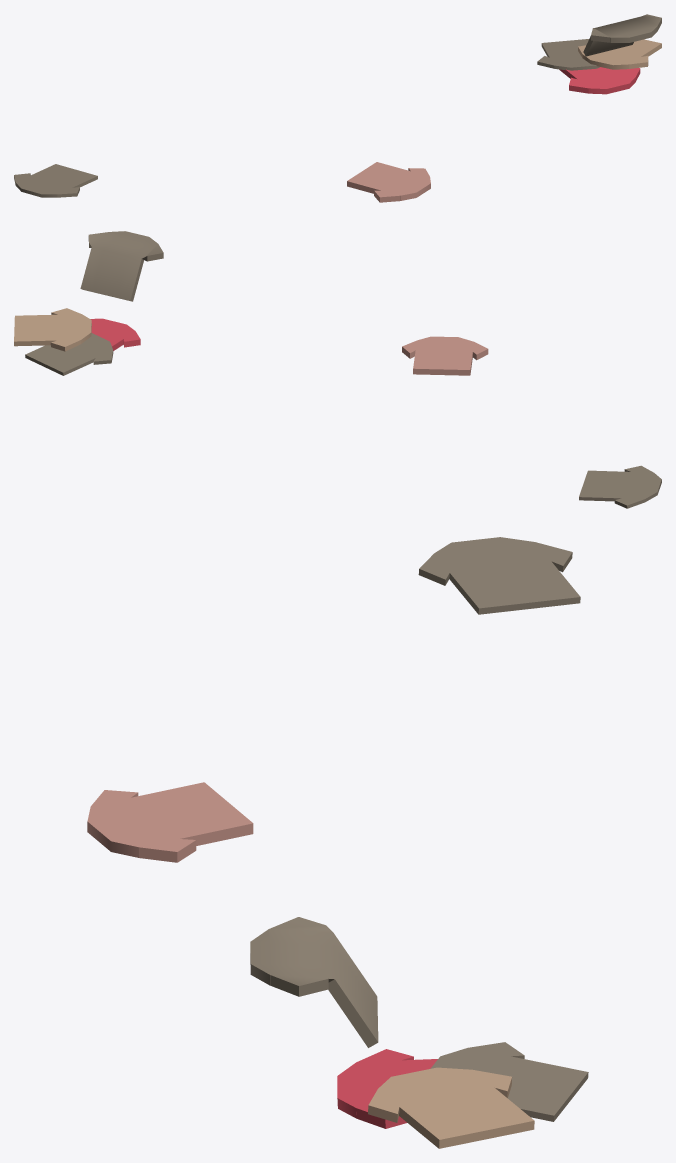
File: tshirts.fbx
The picture shows the model from 3 angles, top to bottom: view 1: azimuth 30°, elevation 25°; view 2: azimuth 150°, elevation 25°; view 3: azimuth 270°, elevation 25°; orthographic projection. The views are drawn at different scales.
Visible parts, largest first — view 1: tshirt4, tshirt6, tshirt5, tshirt1, tshirt3, tshirt2; view 2: tshirt5, tshirt4, tshirt3, tshirt6, tshirt2, tshirt1; view 3: tshirt4, tshirt3, tshirt6, tshirt5, tshirt2, tshirt1.
Part boxes in pixels (left/top/right/bottom): tshirt4: left=347, top=162, right=430, bottom=202; tshirt6: left=14, top=164, right=97, bottom=197; tshirt5: left=583, top=14, right=661, bottom=56; tshirt1: left=559, top=67, right=640, bottom=94; tshirt3: left=578, top=39, right=661, bottom=69; tshirt2: left=537, top=39, right=599, bottom=70; tshirt5: left=80, top=231, right=163, bottom=301; tshirt4: left=402, top=336, right=488, bottom=375; tshirt3: left=14, top=308, right=91, bottom=351; tshirt6: left=579, top=465, right=661, bottom=508; tshirt2: left=25, top=333, right=113, bottom=375; tshirt1: left=90, top=318, right=140, bottom=350; tshirt4: left=87, top=782, right=253, bottom=862; tshirt3: left=368, top=1067, right=534, bottom=1148; tshirt6: left=418, top=537, right=580, bottom=614; tshirt5: left=250, top=917, right=378, bottom=1047; tshirt2: left=430, top=1042, right=588, bottom=1121; tshirt1: left=337, top=1049, right=437, bottom=1128.
Bounding box in the file's own units: 269 × 29.8 × 93.31.
